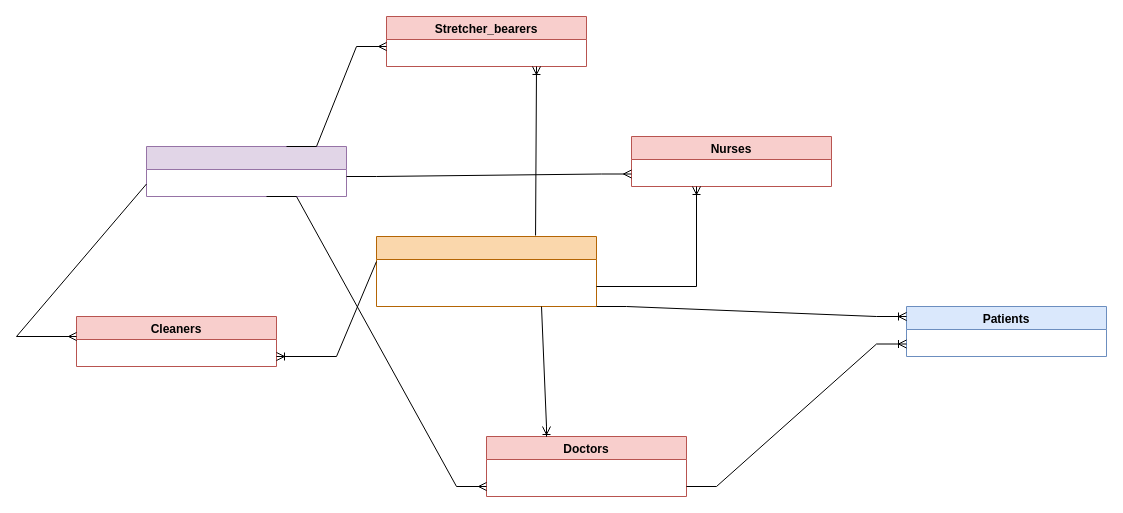
The diagram is 1123 pixels wide and 513 high, and some of its shapes have lost their labels. Each missing label, with the box of its shape:
Employees: (146, 146, 346, 196)
Hospital_wards: (376, 236, 596, 306)
